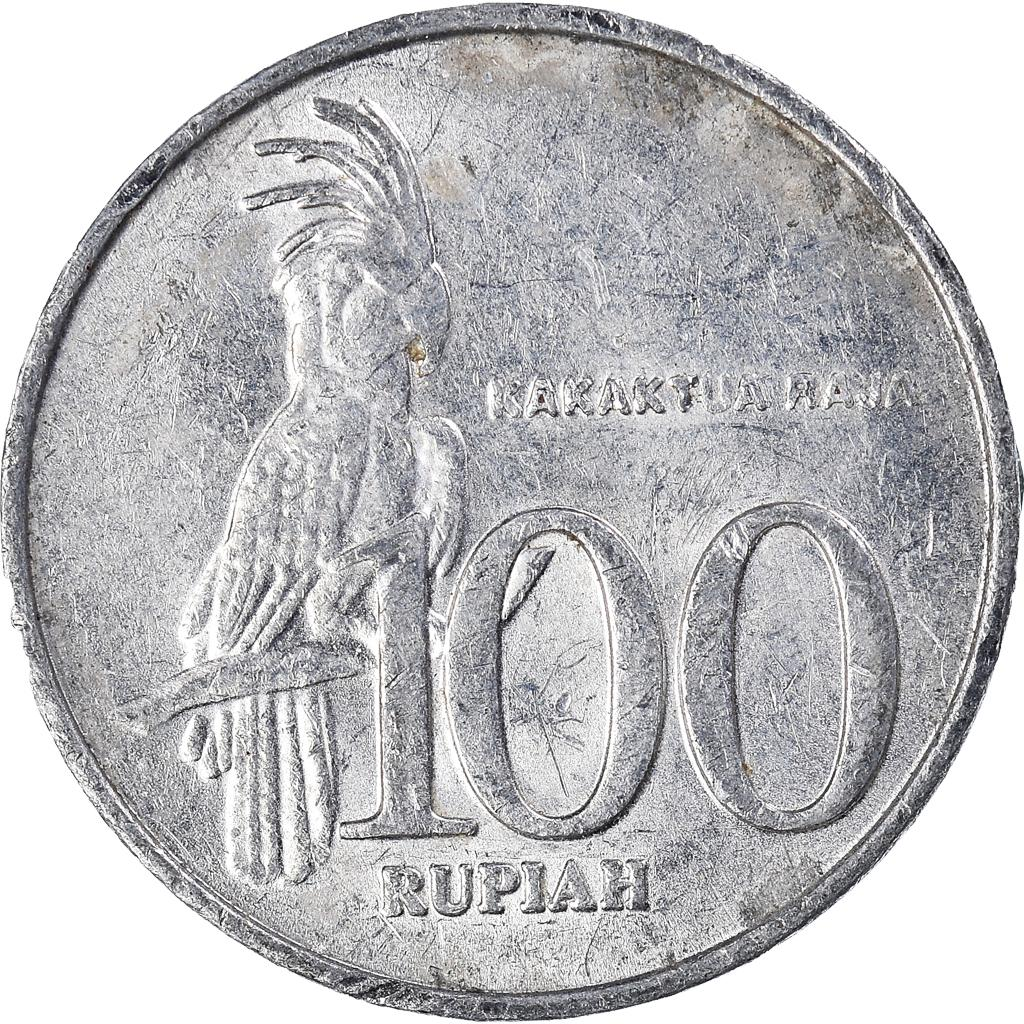coin_100_e1999: (2, 2, 1024, 1022)
